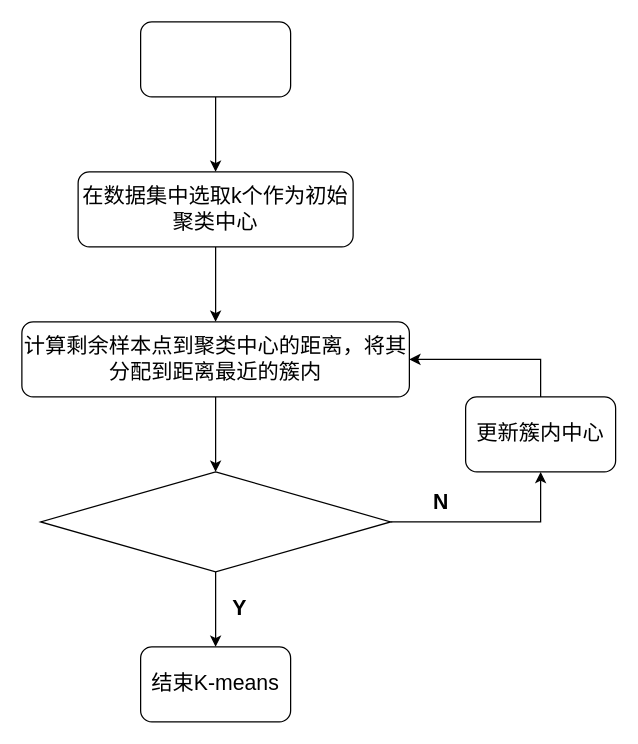
This 638x744 diagram has some shape labels left out. Each missing label, with the centre of its shape:
开始K-means: the point at 215,59
样本所属的簇未改变: the point at 215,521
